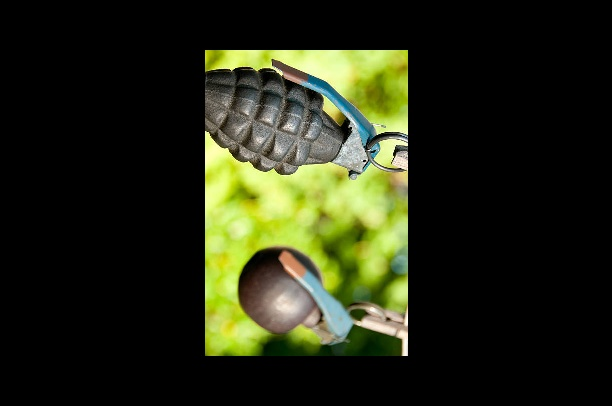e1: (206, 59, 407, 183), (236, 245, 371, 356)
